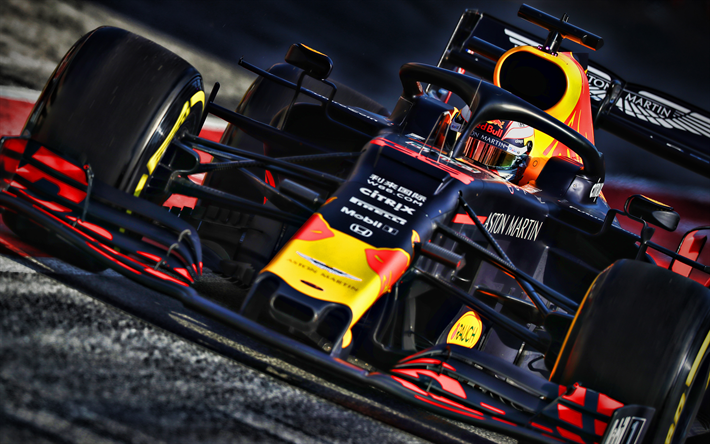f1_car: (1, 1, 709, 442)
